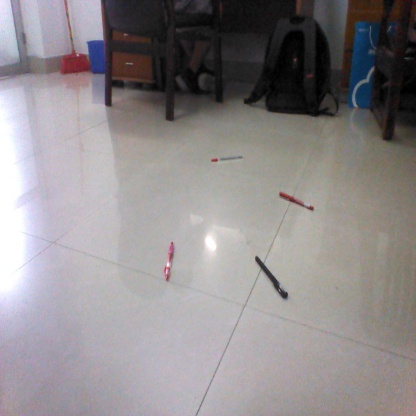pen: (257, 255, 288, 297), (277, 190, 316, 210), (163, 241, 174, 279), (208, 157, 247, 162)
